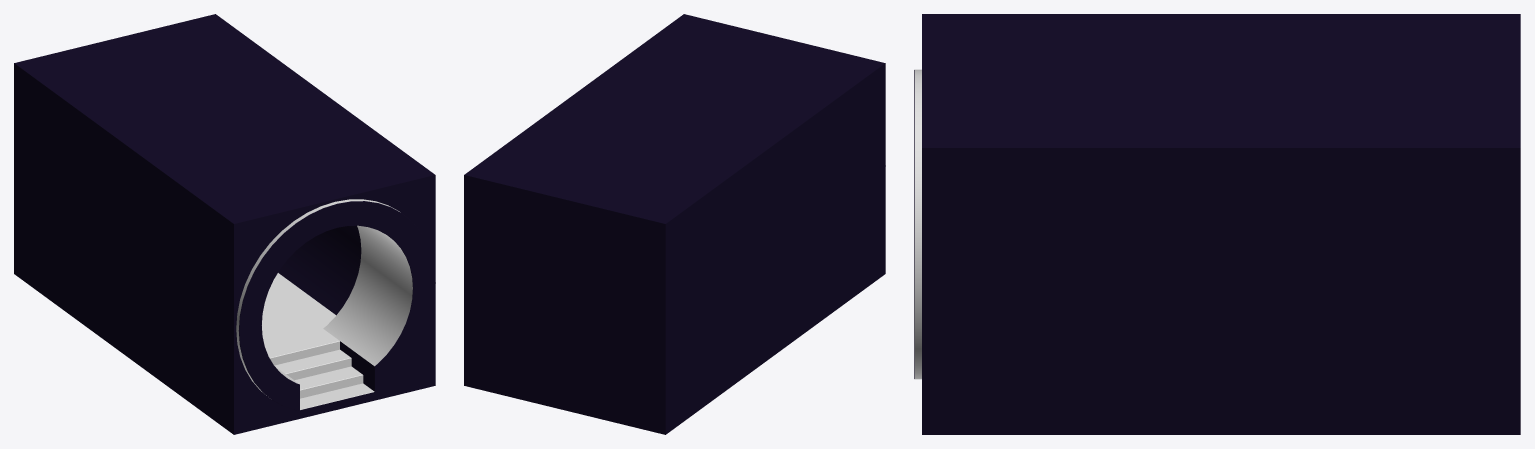
Rendered from PORTAL.glb.
3 renders of one model, left to right at view 1: azimuth 30°, elevation 25°; view 2: azimuth 150°, elevation 25°; view 3: azimuth 270°, elevation 25°, orthographic. The views are drawn at different scales.
Parts seen in each view (by area): view 1: PORTAL-V100; view 2: PORTAL-V100; view 3: PORTAL-V100.
Boxes of the visible parts, left/top/right/bottom form: PORTAL-V100: left=14, top=14, right=435, bottom=434; PORTAL-V100: left=464, top=14, right=885, bottom=434; PORTAL-V100: left=914, top=14, right=1520, bottom=434.
Bounding box in the file's own units: 4.5 × 4.5 × 8.61.
